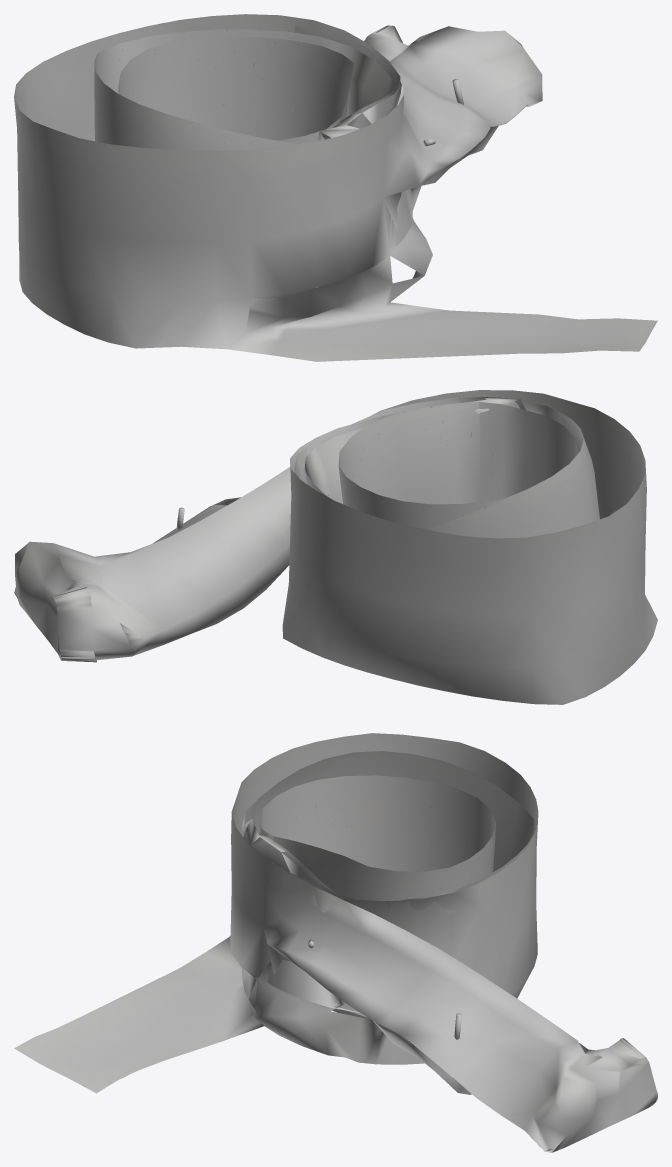
File: ribbon_good.glb
3 views of the same model, one above another, from view 1: azimuth 30°, elevation 25°; view 2: azimuth 150°, elevation 25°; view 3: azimuth 270°, elevation 25° (orthographic). The views are drawn at different scales.
Visible parts, largest first — view 1: tripo_node_d27d5b71-d49f-4ed4-9383-4410c9dc1596; view 2: tripo_node_d27d5b71-d49f-4ed4-9383-4410c9dc1596; view 3: tripo_node_d27d5b71-d49f-4ed4-9383-4410c9dc1596.
Boxes of the visible parts, bbox=[...] form: tripo_node_d27d5b71-d49f-4ed4-9383-4410c9dc1596: bbox=[14, 14, 657, 361]; tripo_node_d27d5b71-d49f-4ed4-9383-4410c9dc1596: bbox=[14, 390, 657, 704]; tripo_node_d27d5b71-d49f-4ed4-9383-4410c9dc1596: bbox=[14, 733, 657, 1152].
Size of the model in its own units: 0.938 by 0.3267 by 0.9995.
Materials: 1 (1 with a texture image).
